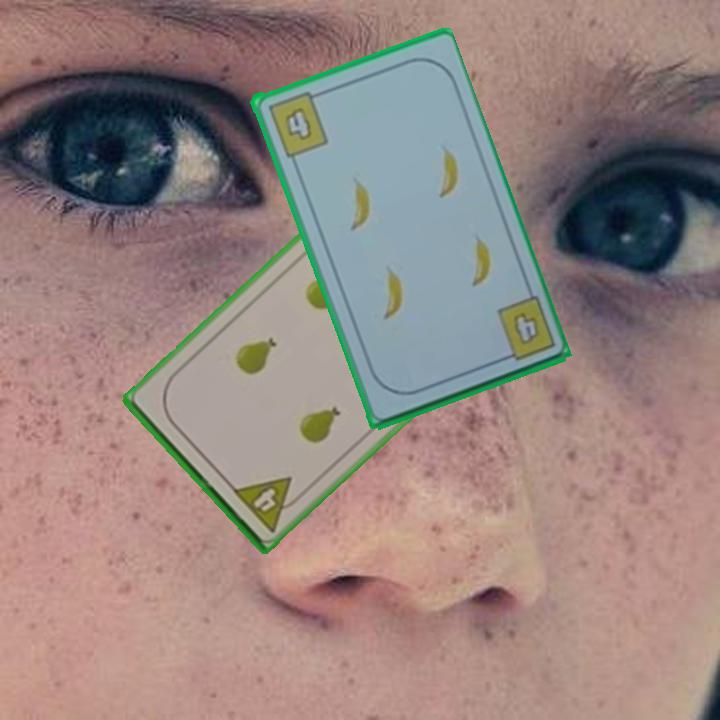4b: (263, 87, 331, 160), (493, 292, 558, 366)
4p: (228, 472, 307, 535)
